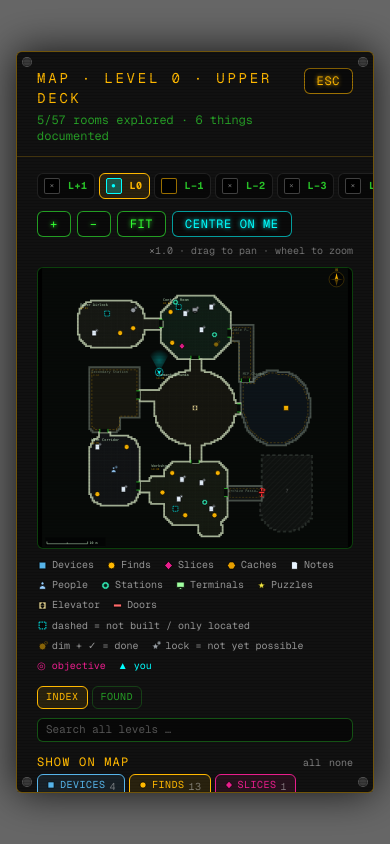
Test: MapOverlay › the Found tab shows progress per level
Click the tab "Found": (117, 698) [92, 686, 142, 709]
(page scrolled)
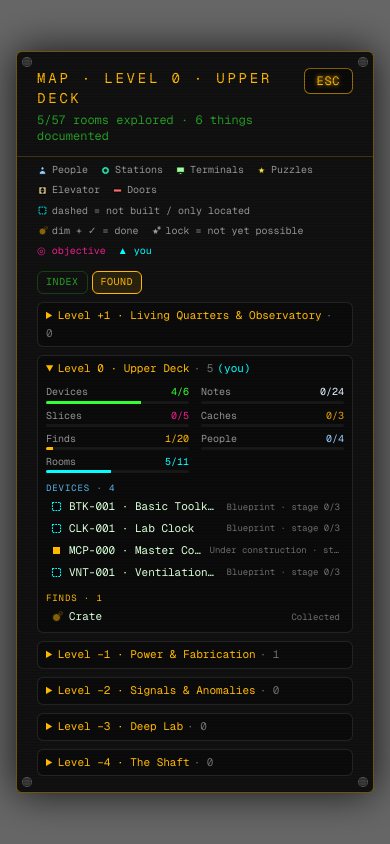
Now the text "Crate" is shown, box [69, 609, 102, 623]
